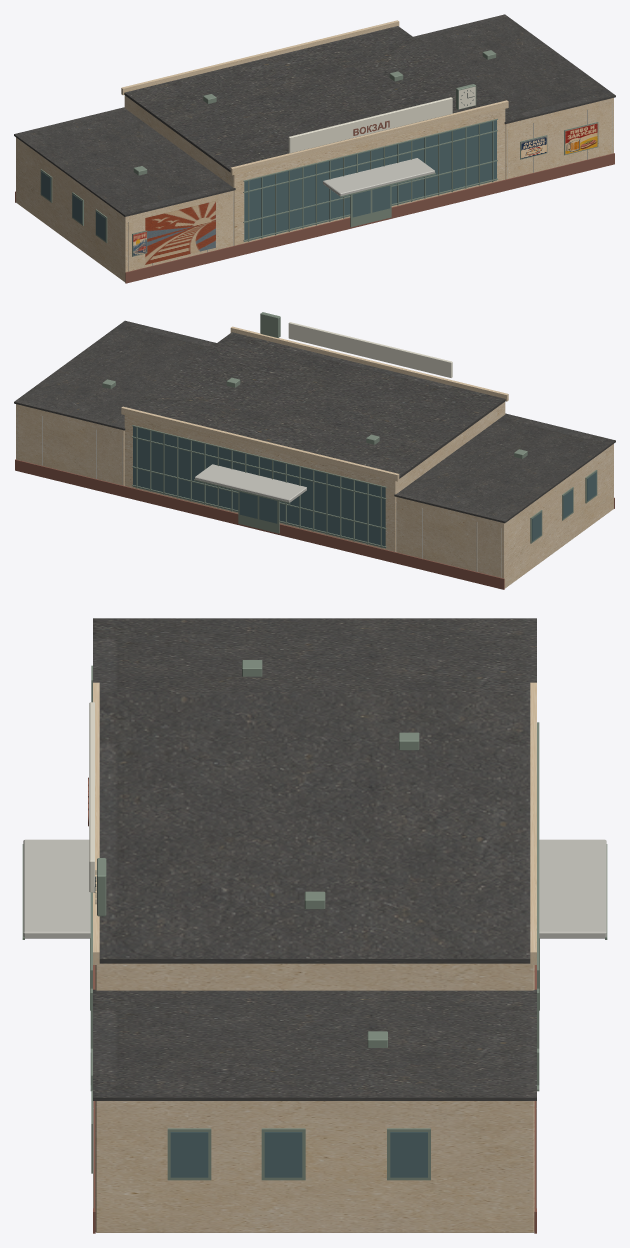
File: station.glb
3 views of the same model, one above another, from view 1: azimuth 30°, elevation 25°; view 2: azimuth 150°, elevation 25°; view 3: azimuth 270°, elevation 25° (orthographic). The views are drawn at different scales.
Parts seen in each view (by area): view 1: station; view 2: station; view 3: station.
Part boxes in pixels (x1,y1,x2,y2): station: (14,14,615,283); station: (14,312,615,589); station: (22,618,607,1233).
Size of the model in its own units: 36.15 by 7.88 by 18.63.
10 materials, 4 textured.
